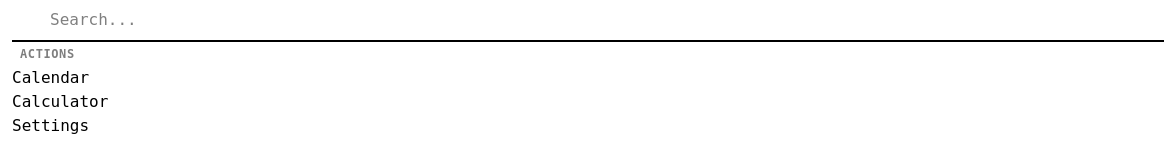
Test: Command Component › filters items in real-time as user types
Expected: the option "Calendar" is shown, [12,68,89,87]
Expected: the option "Calculator" is shown, [12,92,108,111]
Type "calc" into the dropdown at (155, 20), box [50,8,260,32]
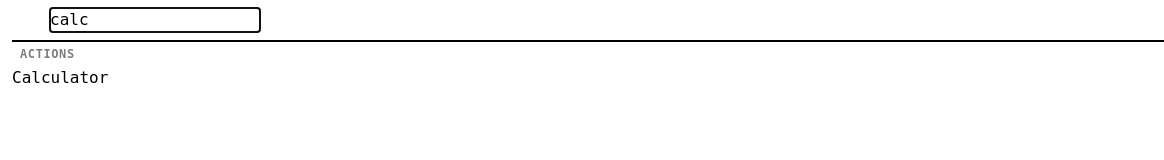
Expected: the option "Calculator" is shown, [12,68,108,87]
Now the option "Calendar" is gone
Now the option "Settings" is gone
